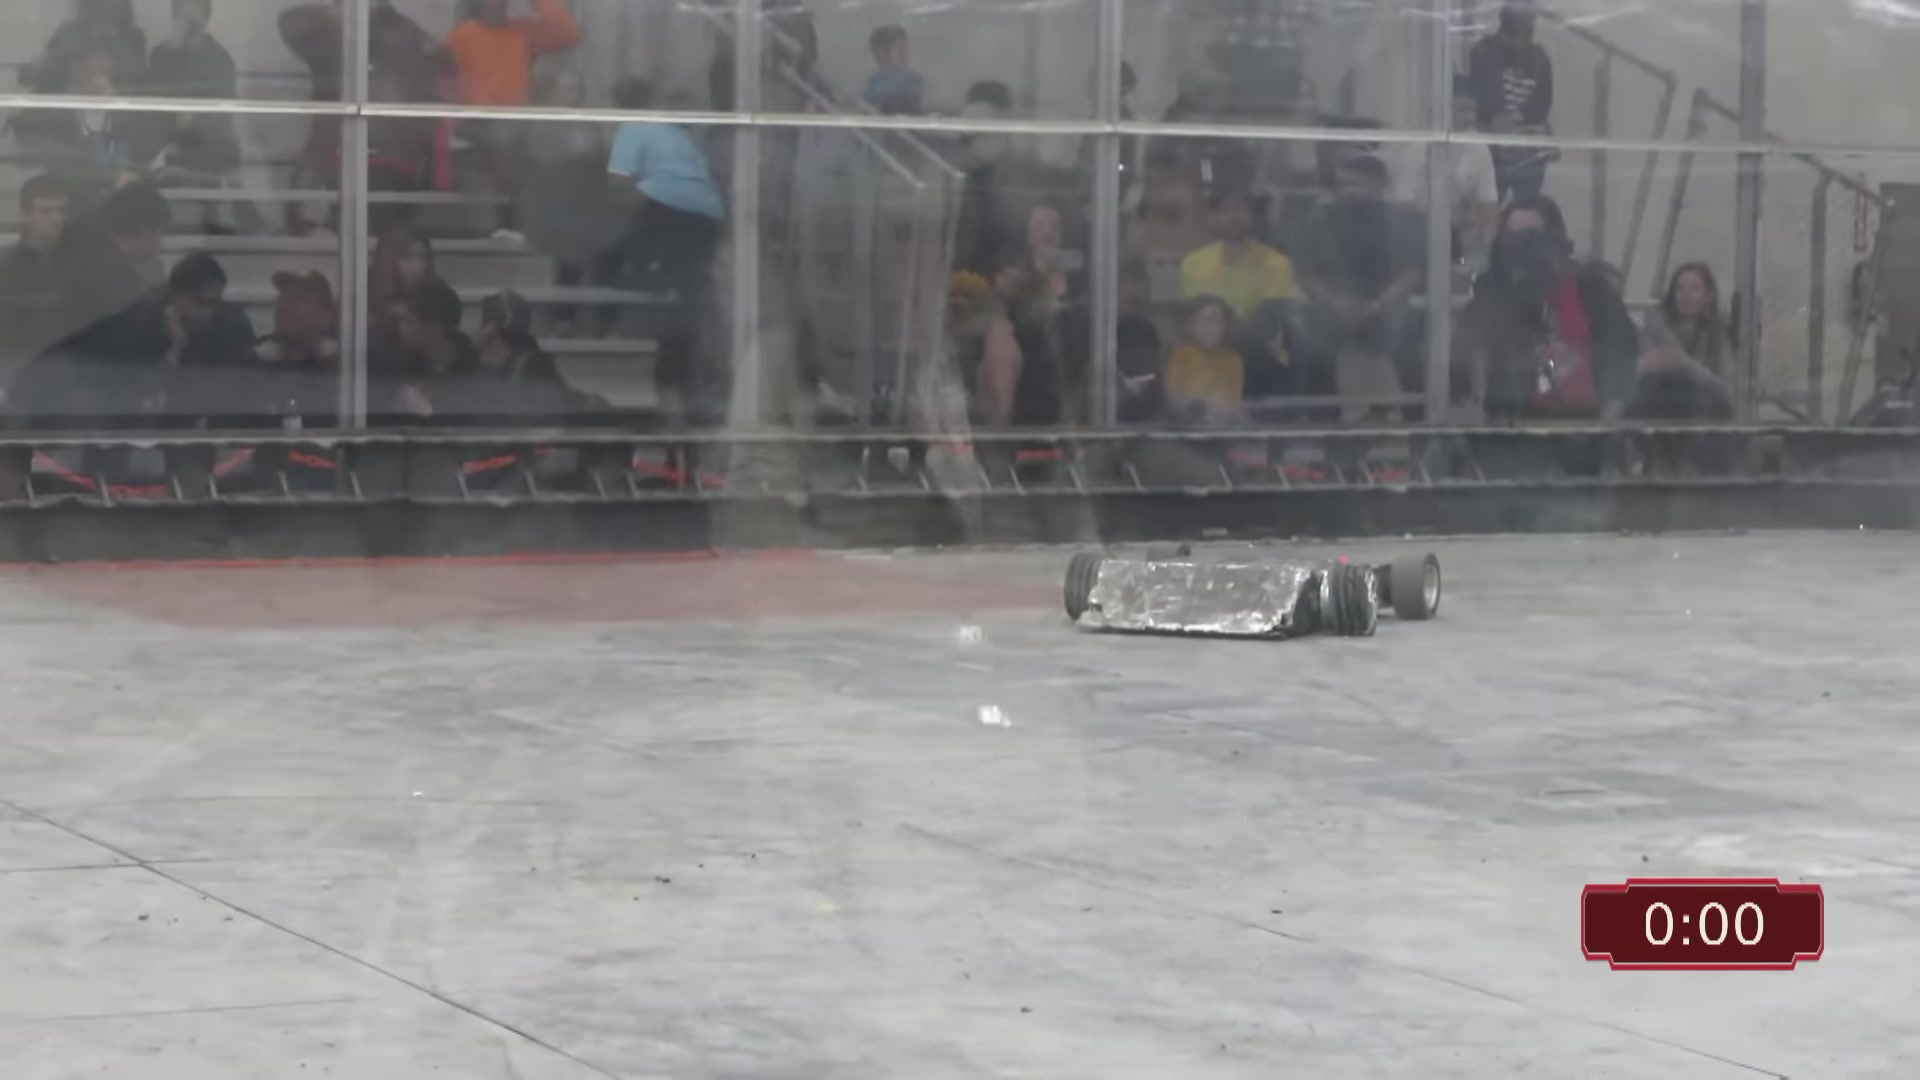combatbot: (1064, 542, 1440, 640)
